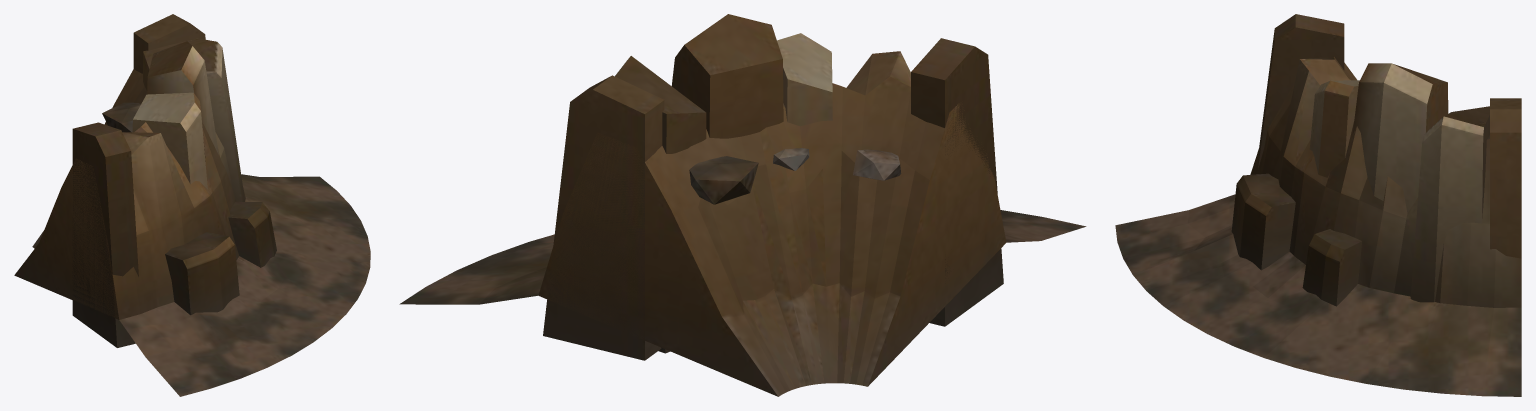
The model's file is cliff-outer-2.glb.
The picture shows the model from 3 angles, left to right: view 1: azimuth 30°, elevation 25°; view 2: azimuth 150°, elevation 25°; view 3: azimuth 270°, elevation 25°; orthographic projection. The views are drawn at different scales.
Parts seen in each view (by area): view 1: cliff-outer-2; view 2: cliff-outer-2; view 3: cliff-outer-2.
Boxes of the visible parts, box(x1,y1,x2,y2) form: cliff-outer-2: box(14, 14, 370, 396); cliff-outer-2: box(399, 14, 1086, 396); cliff-outer-2: box(1115, 14, 1521, 396).
Bounding box in the file's own units: 3.85 × 2.46 × 3.85.
3 materials, 3 textured.
